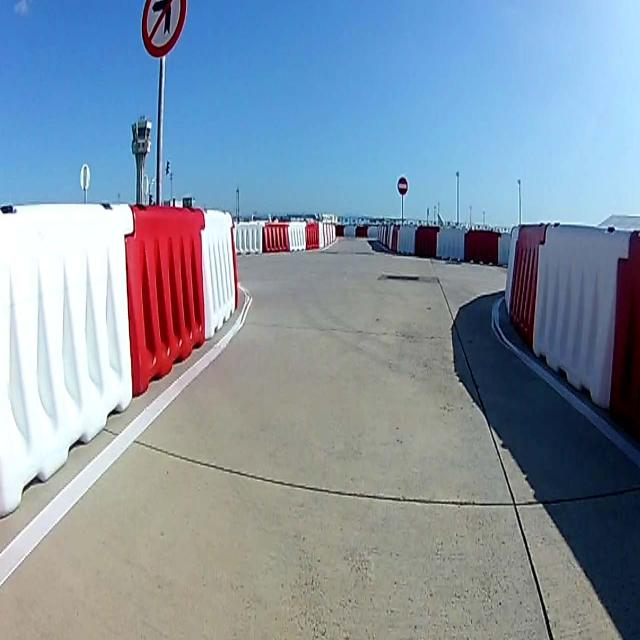girisyok: (397, 178, 408, 195)
soladonulmez: (142, 0, 187, 53)
